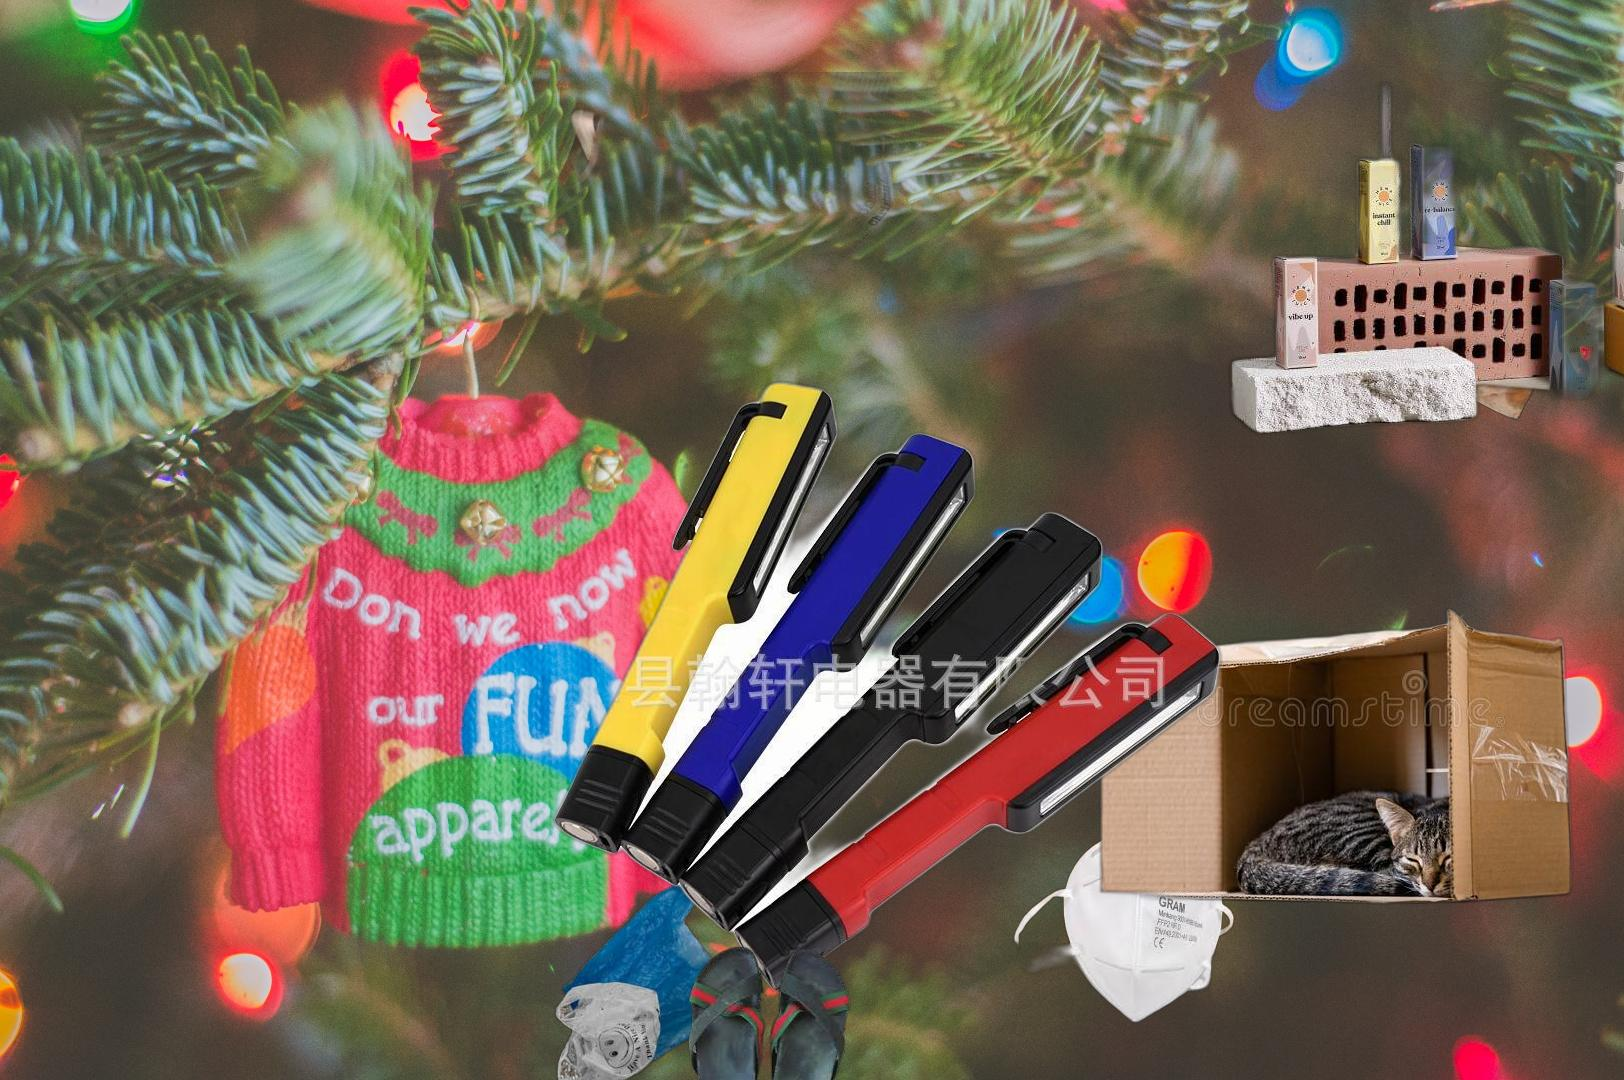paper: (407, 72, 919, 456)
paper-bag: (1396, 239, 1563, 423)
penholder: (547, 375, 1228, 998)
plastic-bag: (552, 874, 763, 1080)
shoes: (686, 945, 853, 1080)
trash: (1011, 818, 1236, 1035)
trashbox-cardboard: (1220, 51, 1624, 440), (1093, 605, 1579, 909)
